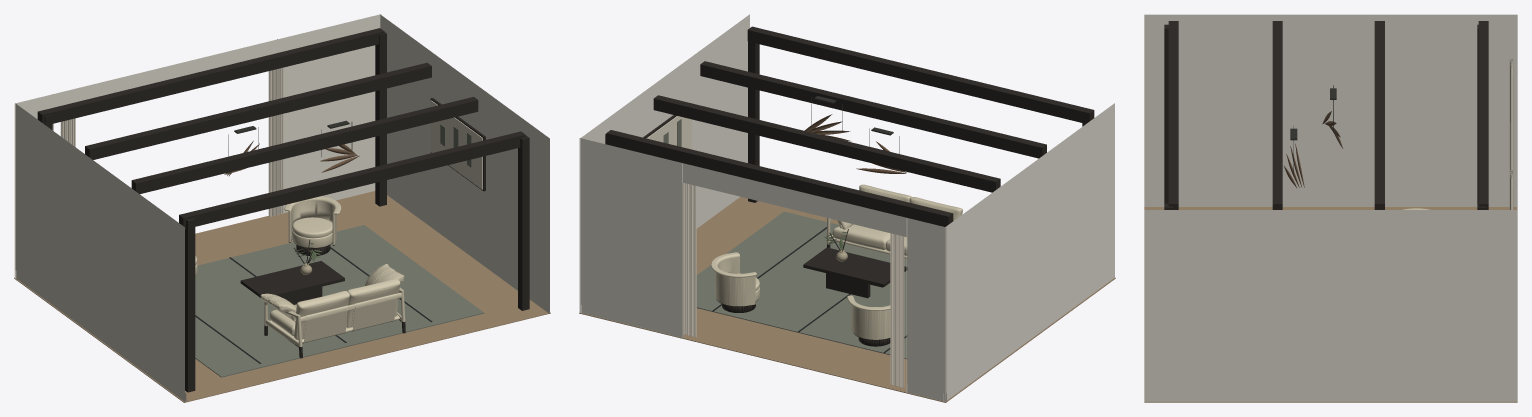
Rendered from great-3.glb.
3 views of the same model, side by side, from view 1: azimuth 30°, elevation 25°; view 2: azimuth 150°, elevation 25°; view 3: azimuth 270°, elevation 25° (orthographic). The views are drawn at different scales.
Parts seen in each view (by area): view 1: DESIGN | great removable wall finish, DESIGN | Great room primary ground, DESIGN | great floor finish, DESIGN | Great room sofa facing conversation, DESIGN | Great room timber ceiling member.001, DESIGN | Great room timber ceiling member.002, DESIGN | Great room timber ceiling member.003, DESIGN | Great room timber ceiling member, DESIGN | Required Bellustar swivel chair two, DESIGN | Great room conversation table top, DESIGN | Great room timber end post.002, DESIGN | Great room timber end post (+3 smaller); view 2: DESIGN | great removable wall finish, DESIGN | Great room primary ground, DESIGN | great floor finish, DESIGN | Great room timber ceiling member.002, DESIGN | Great room timber ceiling member, DESIGN | Great room timber ceiling member.003, DESIGN | Great room timber ceiling member.001, DESIGN | Great room soft window edge, DESIGN | Great room sofa facing conversation, DESIGN | Required Bellustar swivel chair two, DESIGN | Great room soft window edge.001, DESIGN | Great room conversation table top (+4 smaller); view 3: DESIGN | great removable wall finish, DESIGN | Great room timber ceiling member.001, DESIGN | Great room timber ceiling member.002, DESIGN | Great room timber ceiling member, DESIGN | Great room timber ceiling member.003, DESIGN | great floor finish, DESIGN | Great room timber end post, DESIGN | Great room soft window edge, DESIGN | Great room timber end post.001, DESIGN | Required Flou pendant 2.
Boxes of the visible parts, <box> form: DESIGN | great removable wall finish: <box>14,14,549,401</box>; DESIGN | Great room primary ground: <box>195,225,484,377</box>; DESIGN | great floor finish: <box>14,191,550,402</box>; DESIGN | Great room sofa facing conversation: <box>260,264,405,358</box>; DESIGN | Great room timber ceiling member.001: <box>131,97,478,193</box>; DESIGN | Great room timber ceiling member.002: <box>85,62,431,159</box>; DESIGN | Great room timber ceiling member.003: <box>37,28,384,124</box>; DESIGN | Great room timber ceiling member: <box>179,131,525,229</box>; DESIGN | Required Bellustar swivel chair two: <box>284,196,341,255</box>; DESIGN | Great room conversation table top: <box>240,261,344,297</box>; DESIGN | Great room timber end post.002: <box>518,135,529,310</box>; DESIGN | Great room timber end post: <box>185,218,195,392</box>; DESIGN | great removable wall finish: <box>579,14,1114,401</box>; DESIGN | Great room primary ground: <box>696,211,907,359</box>; DESIGN | great floor finish: <box>579,196,1115,402</box>; DESIGN | Great room timber ceiling member.002: <box>653,95,1000,192</box>; DESIGN | Great room timber ceiling member: <box>747,26,1094,123</box>; DESIGN | Great room timber ceiling member.003: <box>606,130,953,226</box>; DESIGN | Great room timber ceiling member.001: <box>700,61,1046,158</box>; DESIGN | Great room soft window edge: <box>890,233,904,387</box>; DESIGN | Great room sofa facing conversation: <box>827,184,962,258</box>; DESIGN | Required Bellustar swivel chair two: <box>711,252,760,312</box>; DESIGN | Great room soft window edge.001: <box>683,182,696,337</box>; DESIGN | Great room conversation table top: <box>803,247,907,287</box>; DESIGN | great removable wall finish: <box>1144,14,1517,401</box>; DESIGN | Great room timber ceiling member.001: <box>1272,21,1282,209</box>; DESIGN | Great room timber ceiling member.002: <box>1374,21,1384,209</box>; DESIGN | Great room timber ceiling member: <box>1168,21,1178,209</box>; DESIGN | Great room timber ceiling member.003: <box>1478,21,1488,209</box>; DESIGN | great floor finish: <box>1144,207,1517,402</box>; DESIGN | Great room timber end post: <box>1164,24,1168,203</box>; DESIGN | Great room soft window edge: <box>1509,59,1513,170</box>; DESIGN | Great room timber end post.001: <box>1477,24,1478,203</box>; DESIGN | Required Flou pendant 2: <box>1284,143,1304,187</box>.
Bounding box in the file's own units: 6 × 2.74 × 4.82.
